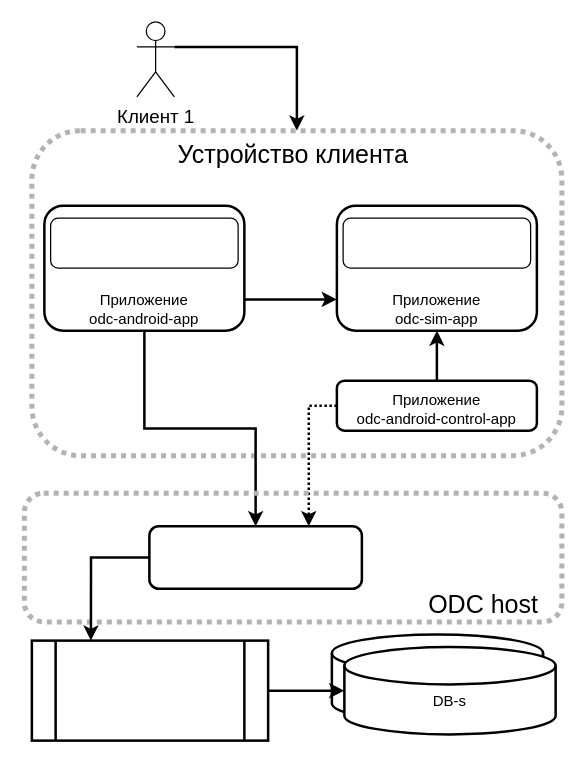
Image size: 585x764. Some labels were removed from this diagram. The shapes that lost their labels are listed below. From the top down, each one's centre as x and y in pixels, then its label:
At point 143,242: "odc-android-framework".
At point 436,242: "odc-sim-framework".
At point 255,556: "odc-gateway-api".
At point 149,690: "odc server microservises".
